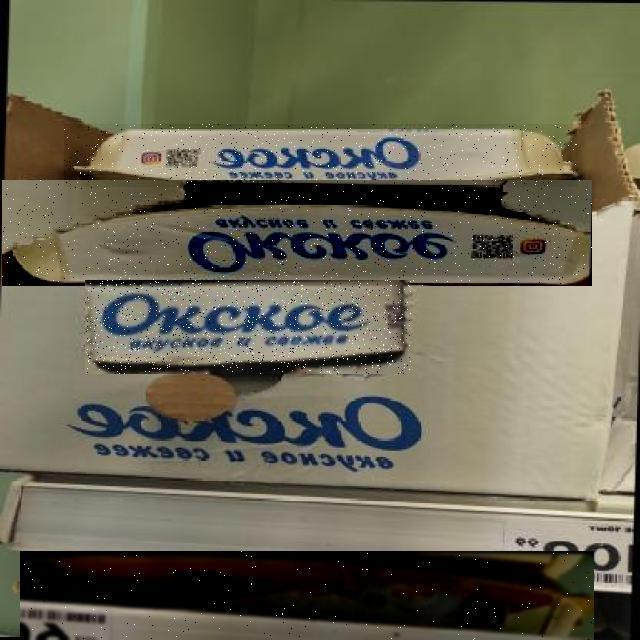Eggs: (2, 180, 592, 286), (20, 551, 594, 640), (64, 124, 578, 187), (86, 280, 412, 374)
